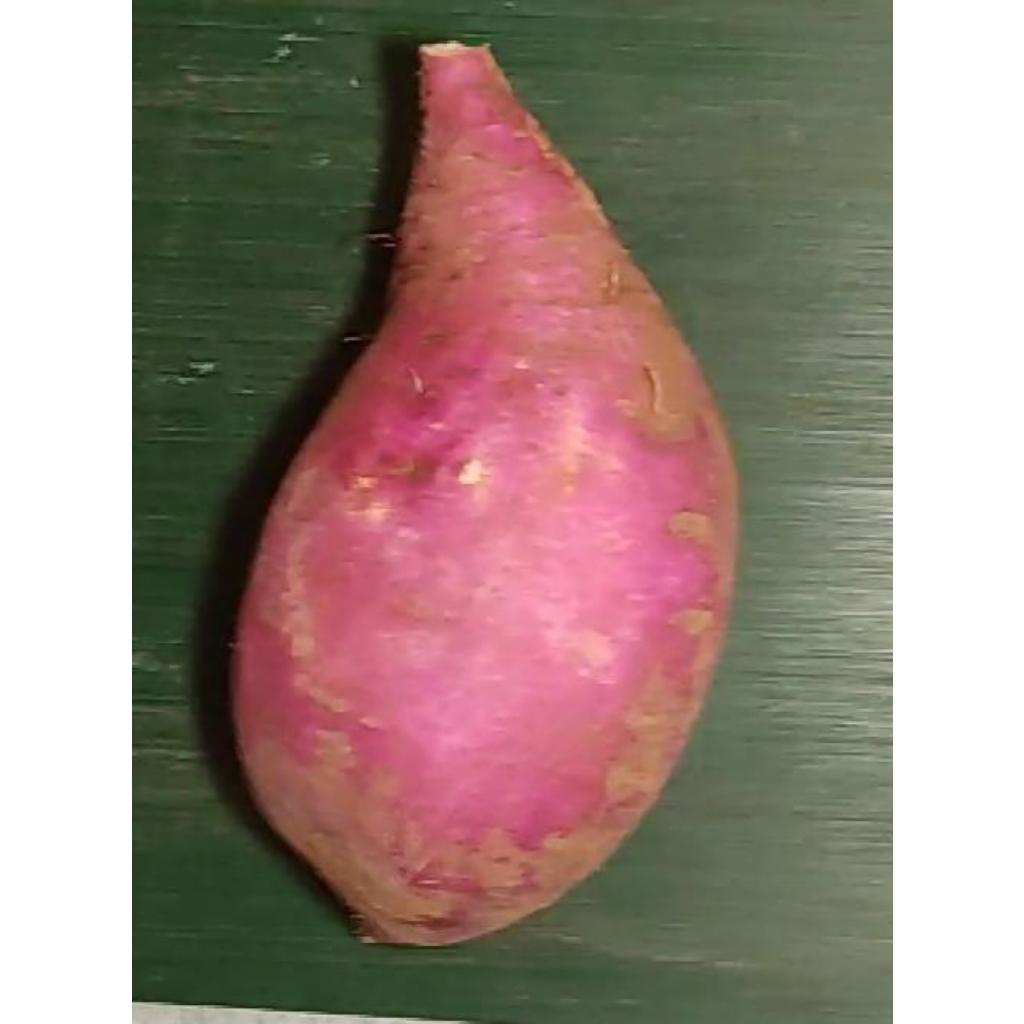Sweet Potato: (229, 44, 735, 949)
